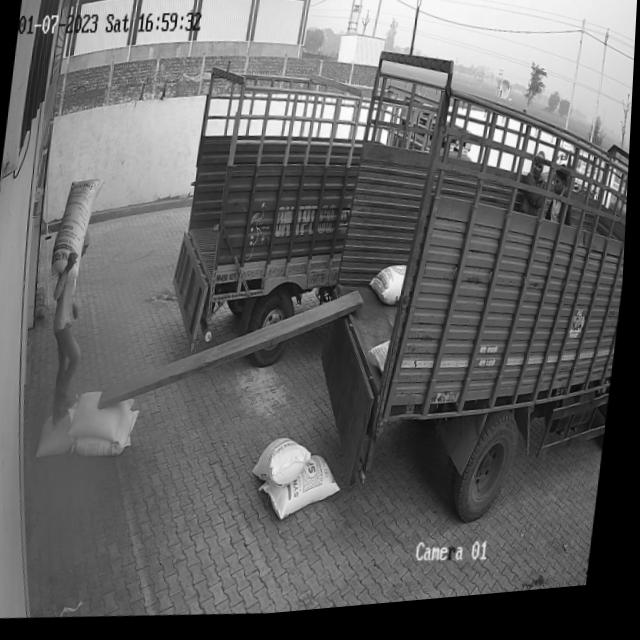sack: (262, 453, 348, 531), (52, 176, 104, 282), (72, 388, 138, 448), (76, 406, 143, 461), (257, 437, 318, 496), (39, 410, 82, 463)
